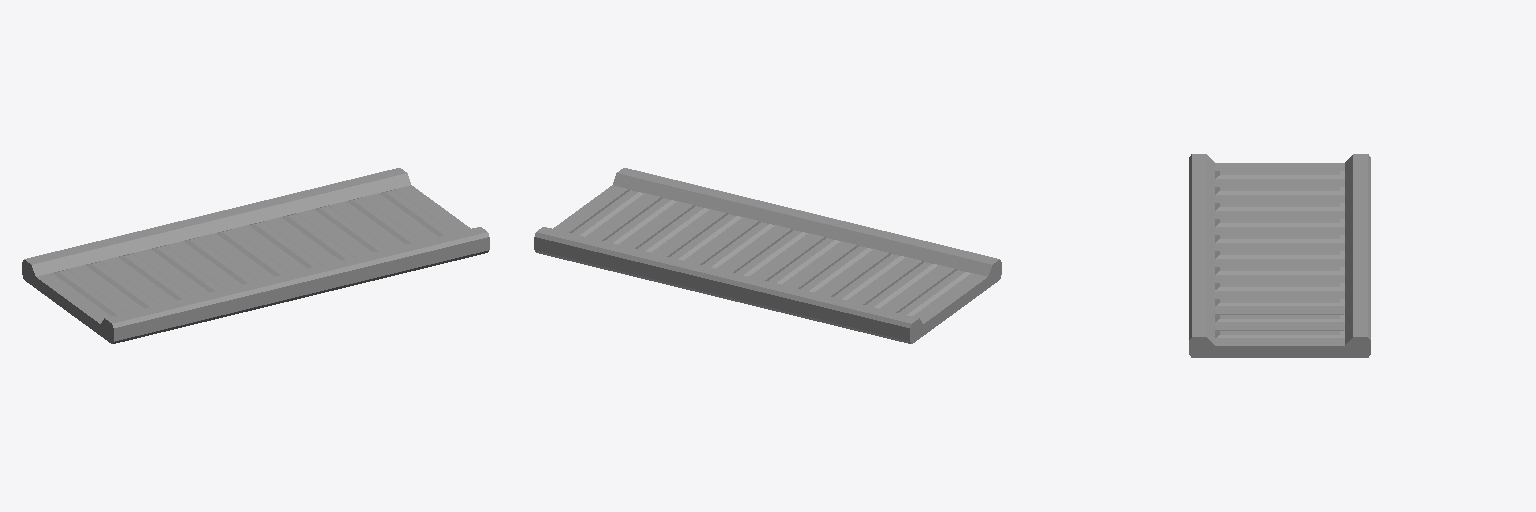
File: Platform-small.obj
The picture shows the model from 3 angles: view 1: azimuth 30°, elevation 25°; view 2: azimuth 150°, elevation 25°; view 3: azimuth 270°, elevation 25°; orthographic projection.
Visible parts, largest first — view 1: Cube.010_Cube.025; view 2: Cube.010_Cube.025; view 3: Cube.010_Cube.025.
Part boxes in pixels (x1,y1,x2,y2): Cube.010_Cube.025: (22, 168, 489, 343); Cube.010_Cube.025: (534, 168, 1001, 343); Cube.010_Cube.025: (1189, 154, 1370, 357).
Size of the model in its own units: 7.96 by 0.4191 by 3.34.